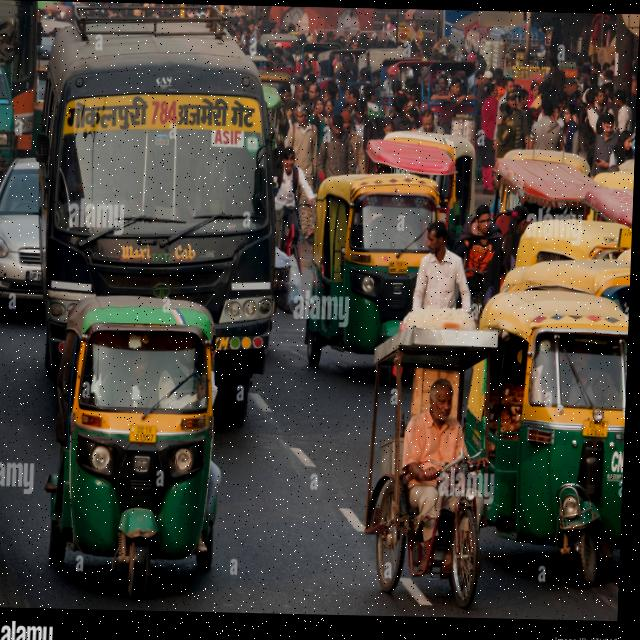plate: (131, 419, 163, 446), (584, 414, 614, 438), (389, 254, 413, 275)
